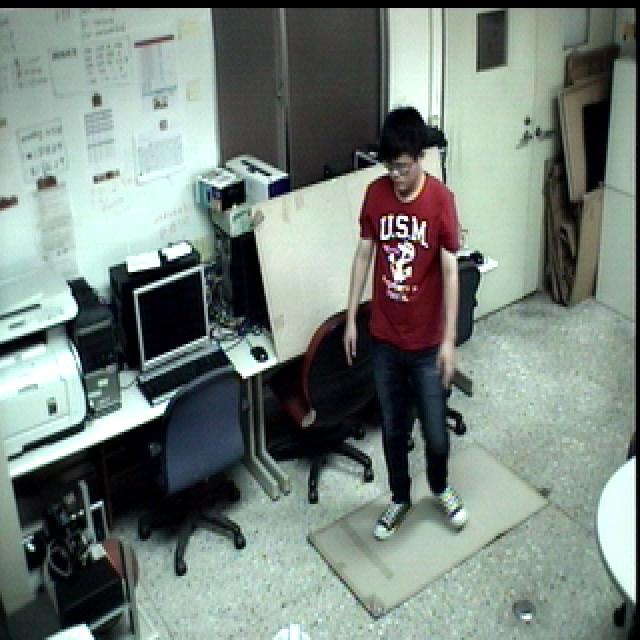stand: (338, 91, 490, 561)
